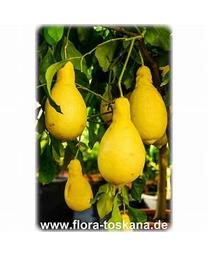lemon: (98, 98, 146, 186), (49, 61, 89, 140), (130, 65, 167, 143), (65, 158, 93, 210)
